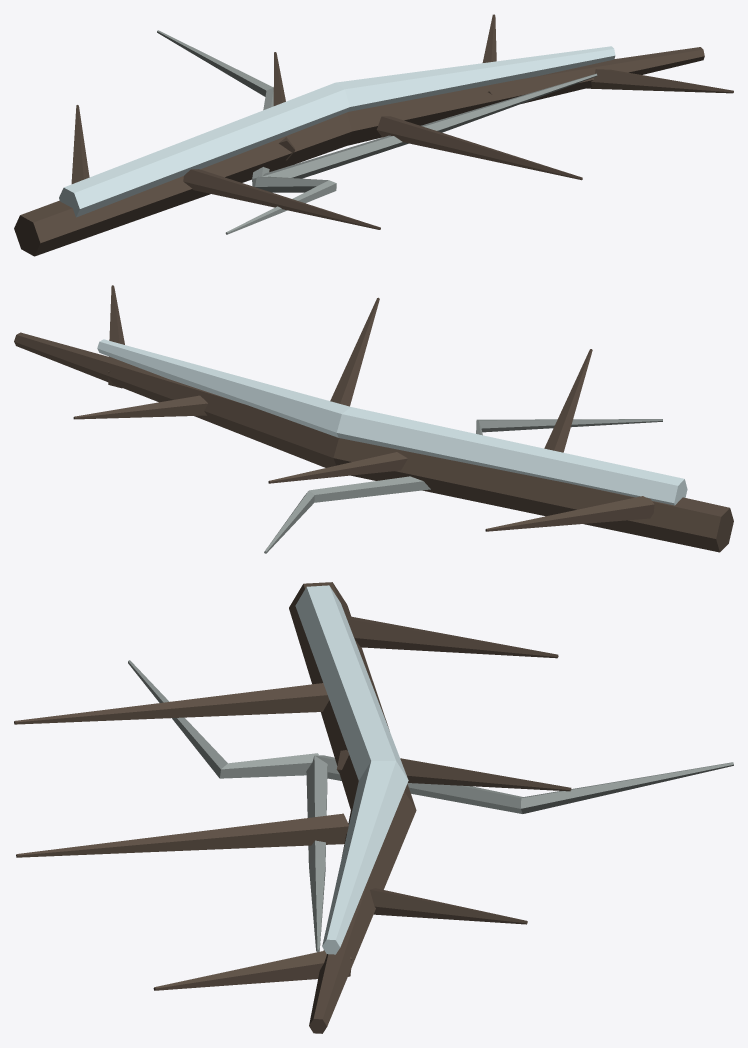
Rendered from PLANT_12_TwigClusterFrosted.glb.
The picture shows the model from 3 angles, top to bottom: view 1: azimuth 30°, elevation 25°; view 2: azimuth 150°, elevation 25°; view 3: azimuth 270°, elevation 25°; orthographic projection. The views are drawn at different scales.
Visible parts, largest first — view 1: PLANT_12_TwigClusterFrosted; view 2: PLANT_12_TwigClusterFrosted; view 3: PLANT_12_TwigClusterFrosted.
Boxes of the visible parts, left/top/right/bottom form: PLANT_12_TwigClusterFrosted: left=14, top=14, right=733, bottom=256; PLANT_12_TwigClusterFrosted: left=14, top=285, right=733, bottom=553; PLANT_12_TwigClusterFrosted: left=14, top=582, right=733, bottom=1033.
Bounding box in the file's own units: 1.61 × 0.1518 × 1.1.
